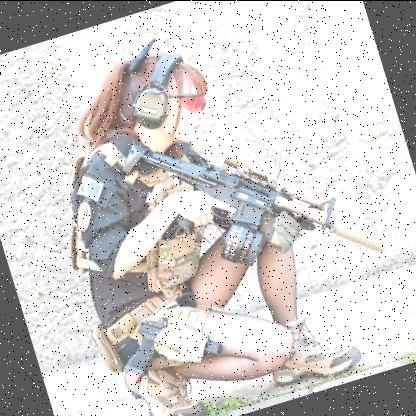rifle: (112, 71, 399, 332), (104, 294, 224, 396)
